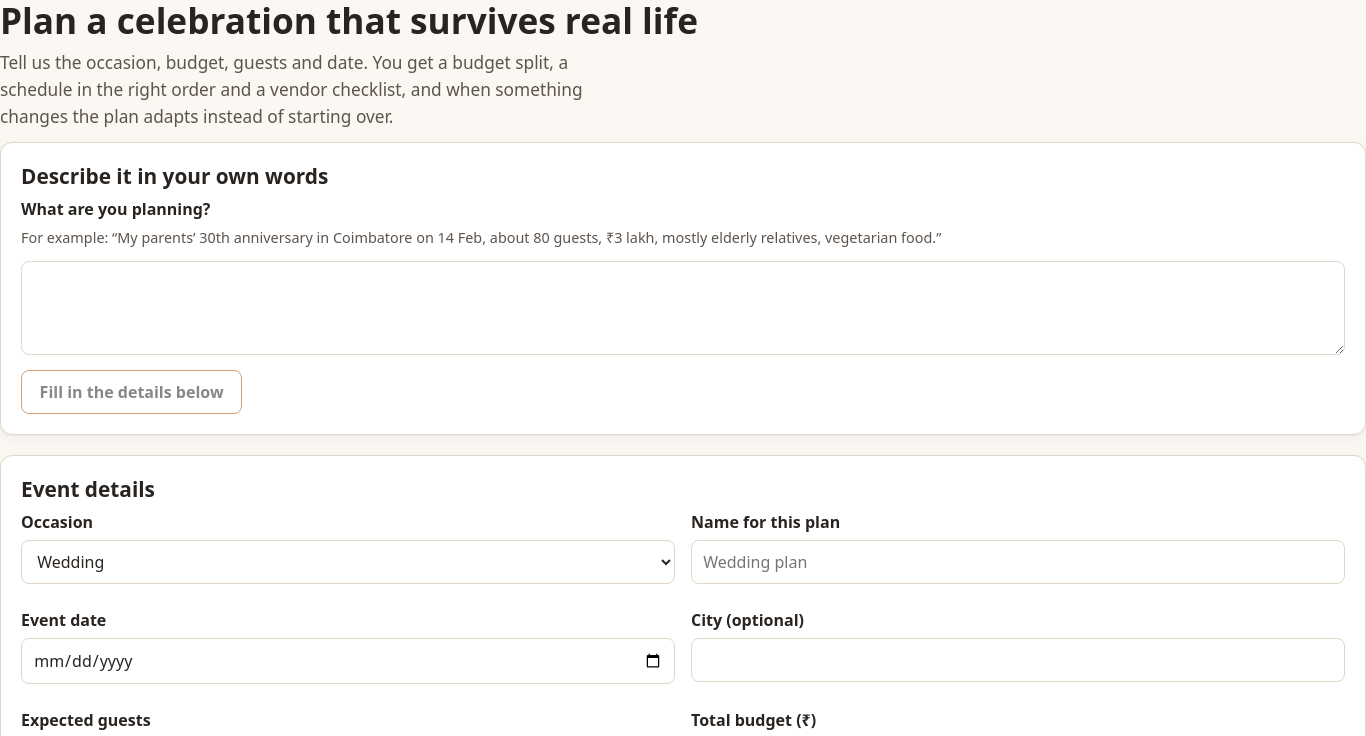
Test: IntakeForm › asks for a date after today
Type "2026-10-25" into the date field labelled "Event date" at x=348, y=661, box [21,638,675,684]
(page scrolled)
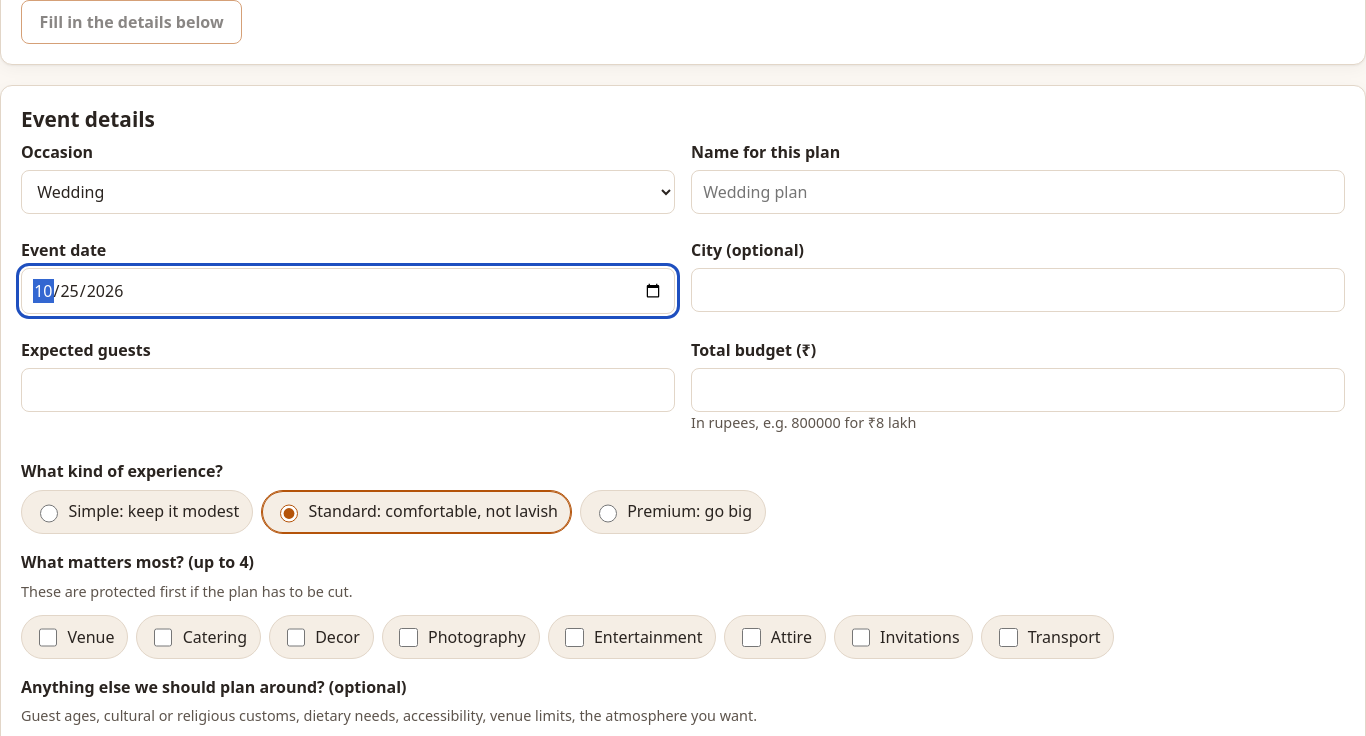
Type "200" into the number field labelled "Expected guests" at x=348, y=390, box [21,368,675,412]
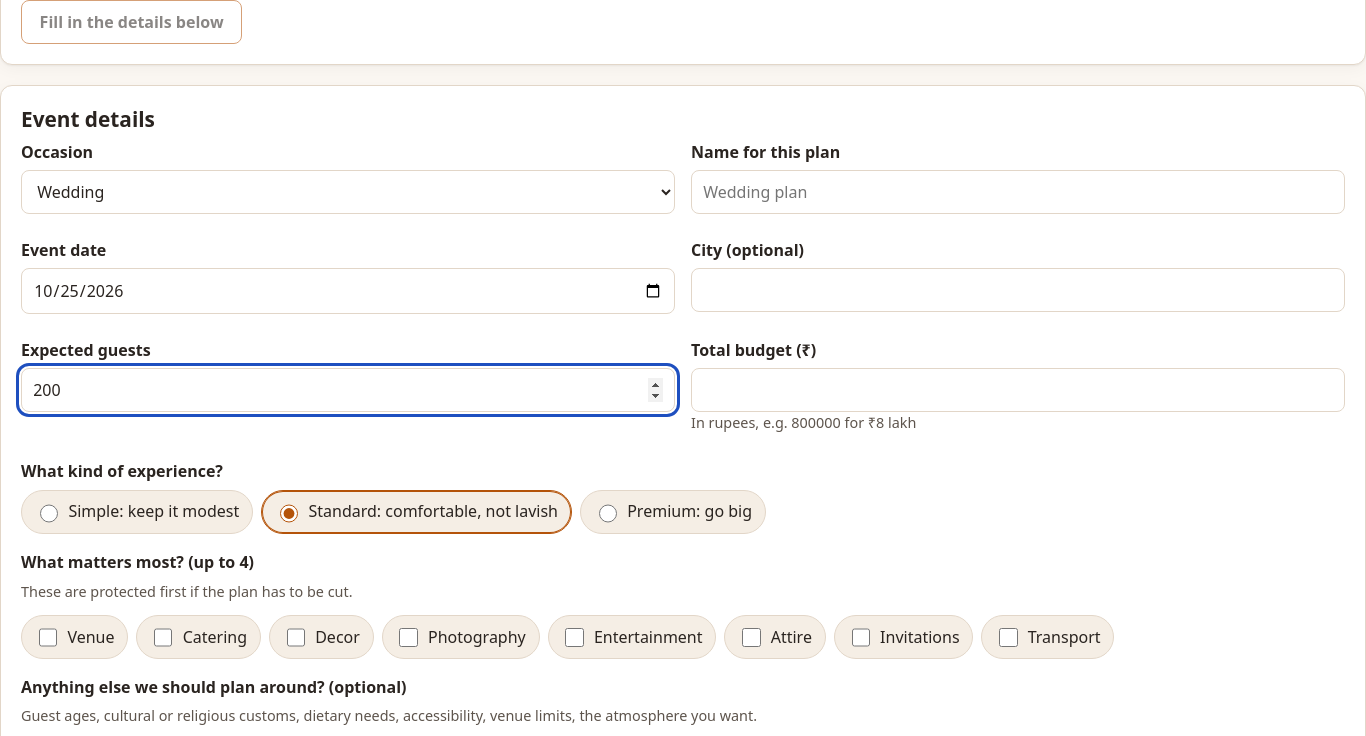
Type "800000" into the number field labelled "Total budget (₹)" at x=1018, y=390, box [691,368,1345,412]
(page scrolled)
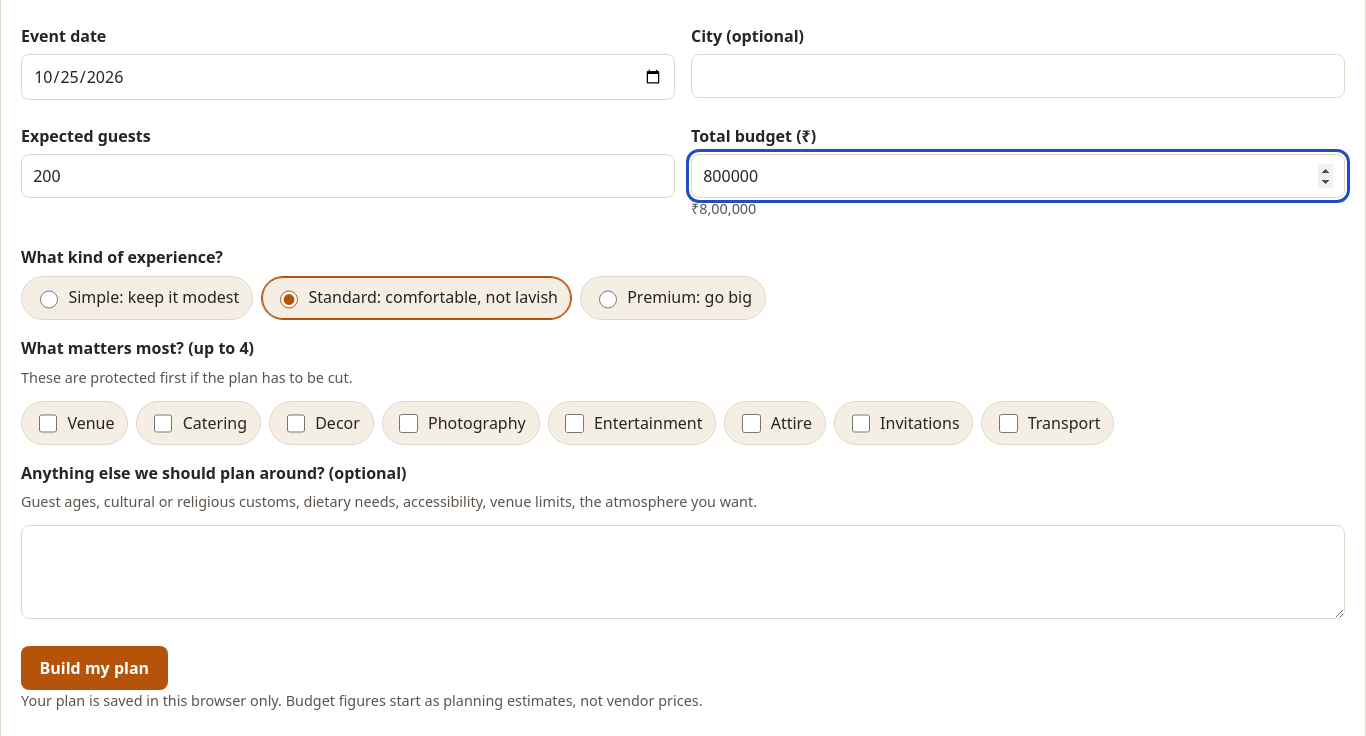
Click the button "Build my plan" at x=94, y=668, box [21,646,168,690]
(page scrolled)
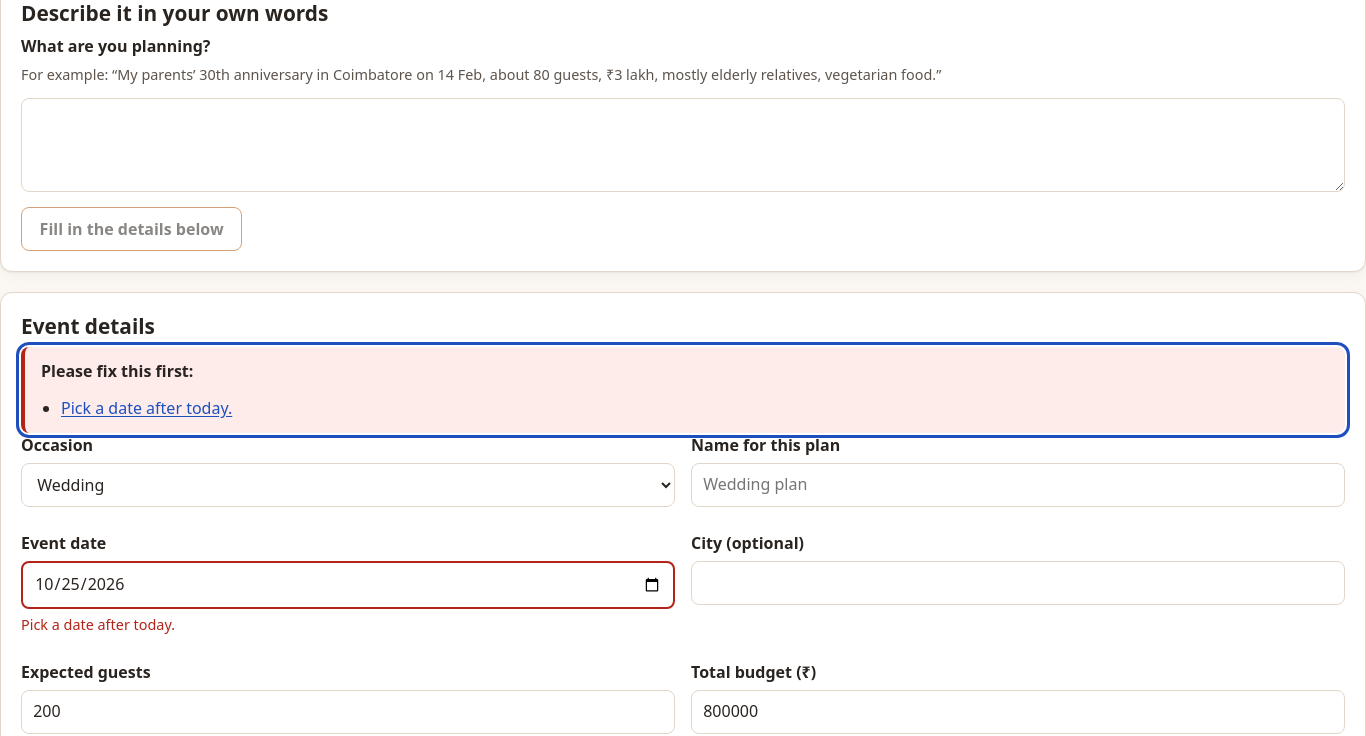
Now the message shows "Please fix this first:", box [21,347,1345,433]
